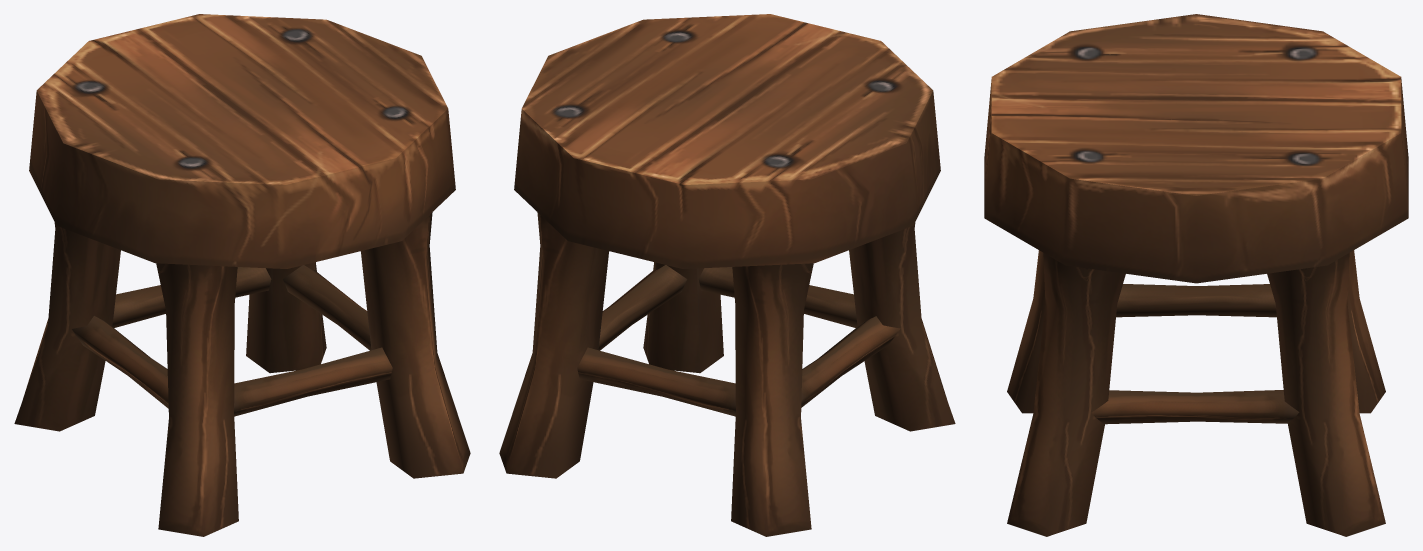
Rendered from 10_chair.FBX.
3 views of the same model, side by side, from view 1: azimuth 30°, elevation 25°; view 2: azimuth 150°, elevation 25°; view 3: azimuth 270°, elevation 25° (orthographic). The views are drawn at different scales.
Visible parts, largest first — view 1: 10_chair; view 2: 10_chair; view 3: 10_chair.
Boxes of the visible parts, x1,y1,x2,y2 form: 10_chair: (14, 14, 470, 536); 10_chair: (499, 14, 955, 536); 10_chair: (984, 14, 1408, 536).
Size of the model in its own units: 48.97 by 42.69 by 46.57.
